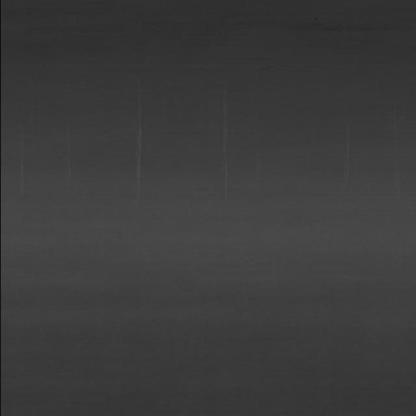waist_folding: (36, 69, 372, 201)
